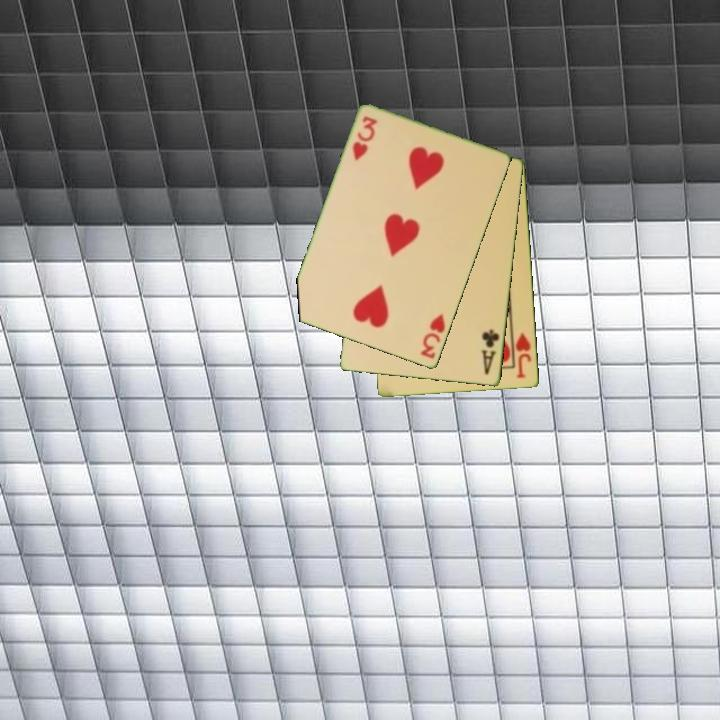3h: (417, 311, 448, 362), (349, 113, 380, 164)
Ac: (478, 326, 502, 378)
Jh: (509, 326, 534, 381)
